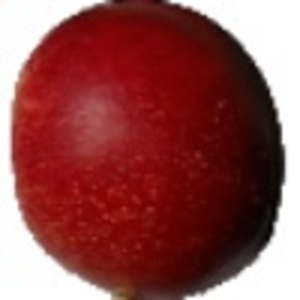nectarina: (8, 1, 285, 300)
